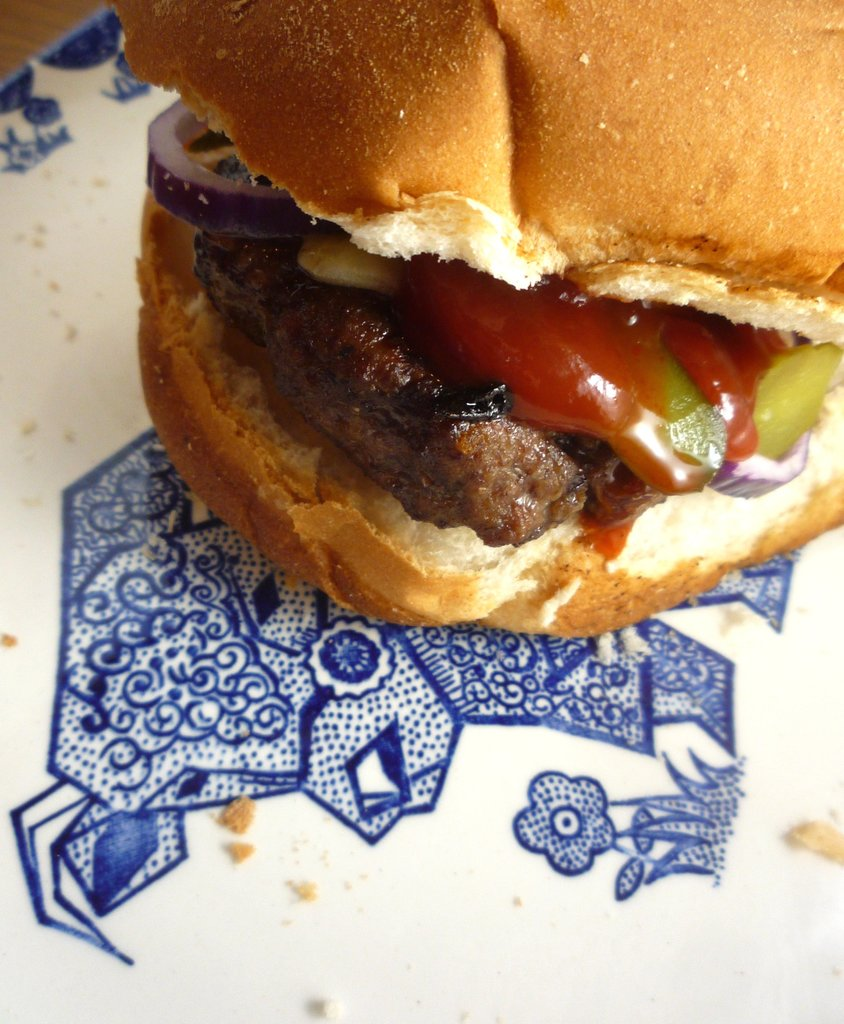Hamburger: (102, 0, 843, 626)
